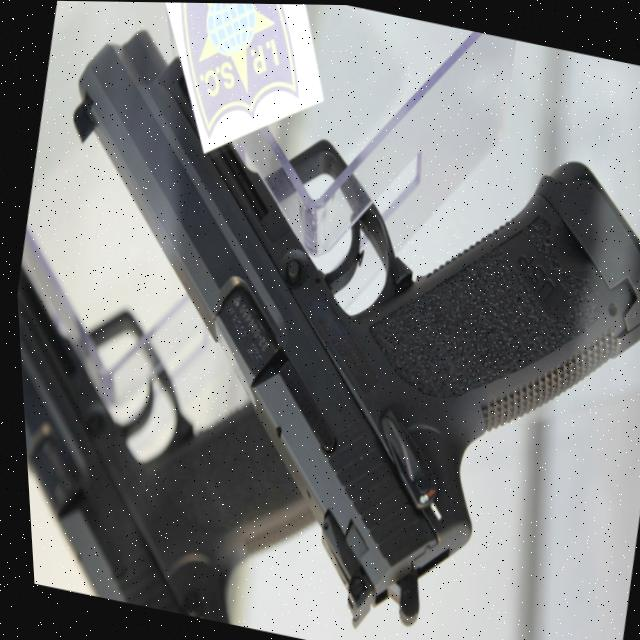pistol: (0, 10, 640, 640), (11, 236, 361, 639)
